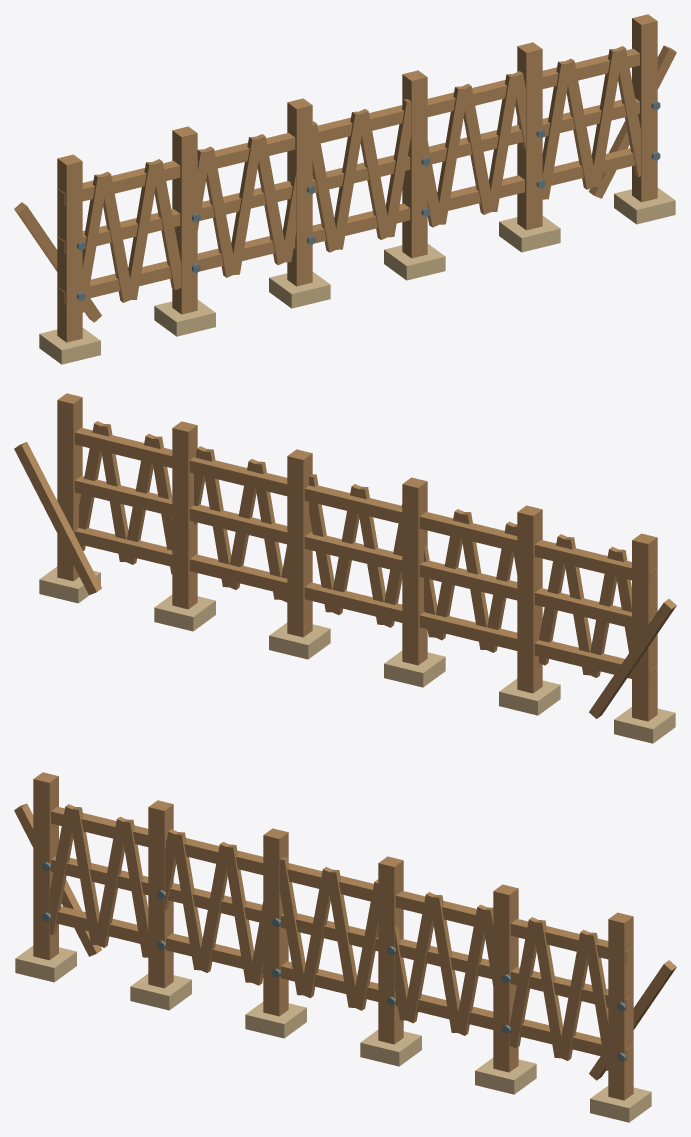
Rendered from Windbreak.glb.
3 renders of one model, top to bottom at view 1: azimuth 30°, elevation 25°; view 2: azimuth 150°, elevation 25°; view 3: azimuth 330°, elevation 25°, orthographic.
Parts seen in each view (by area): view 1: hand-pump-static-windbreak-wood, hand-pump-static-windbreak-stone, hand-pump-static-windbreak-iron; view 2: hand-pump-static-windbreak-wood, hand-pump-static-windbreak-stone; view 3: hand-pump-static-windbreak-wood, hand-pump-static-windbreak-stone, hand-pump-static-windbreak-iron.
Part boxes in pixels (x1=…): hand-pump-static-windbreak-wood: x1=14, y1=14, x2=676, y2=342; hand-pump-static-windbreak-stone: x1=39, y1=188, x2=675, y2=364; hand-pump-static-windbreak-iron: x1=77, y1=101, x2=660, y2=301; hand-pump-static-windbreak-wood: x1=14, y1=393, x2=676, y2=721; hand-pump-static-windbreak-stone: x1=39, y1=566, x2=675, y2=743; hand-pump-static-windbreak-wood: x1=14, y1=772, x2=676, y2=1100; hand-pump-static-windbreak-stone: x1=15, y1=946, x2=651, y2=1122; hand-pump-static-windbreak-iron: x1=42, y1=862, x2=625, y2=1061.
Bounding box in the file's own units: 5.72 × 1.6 × 0.39.
